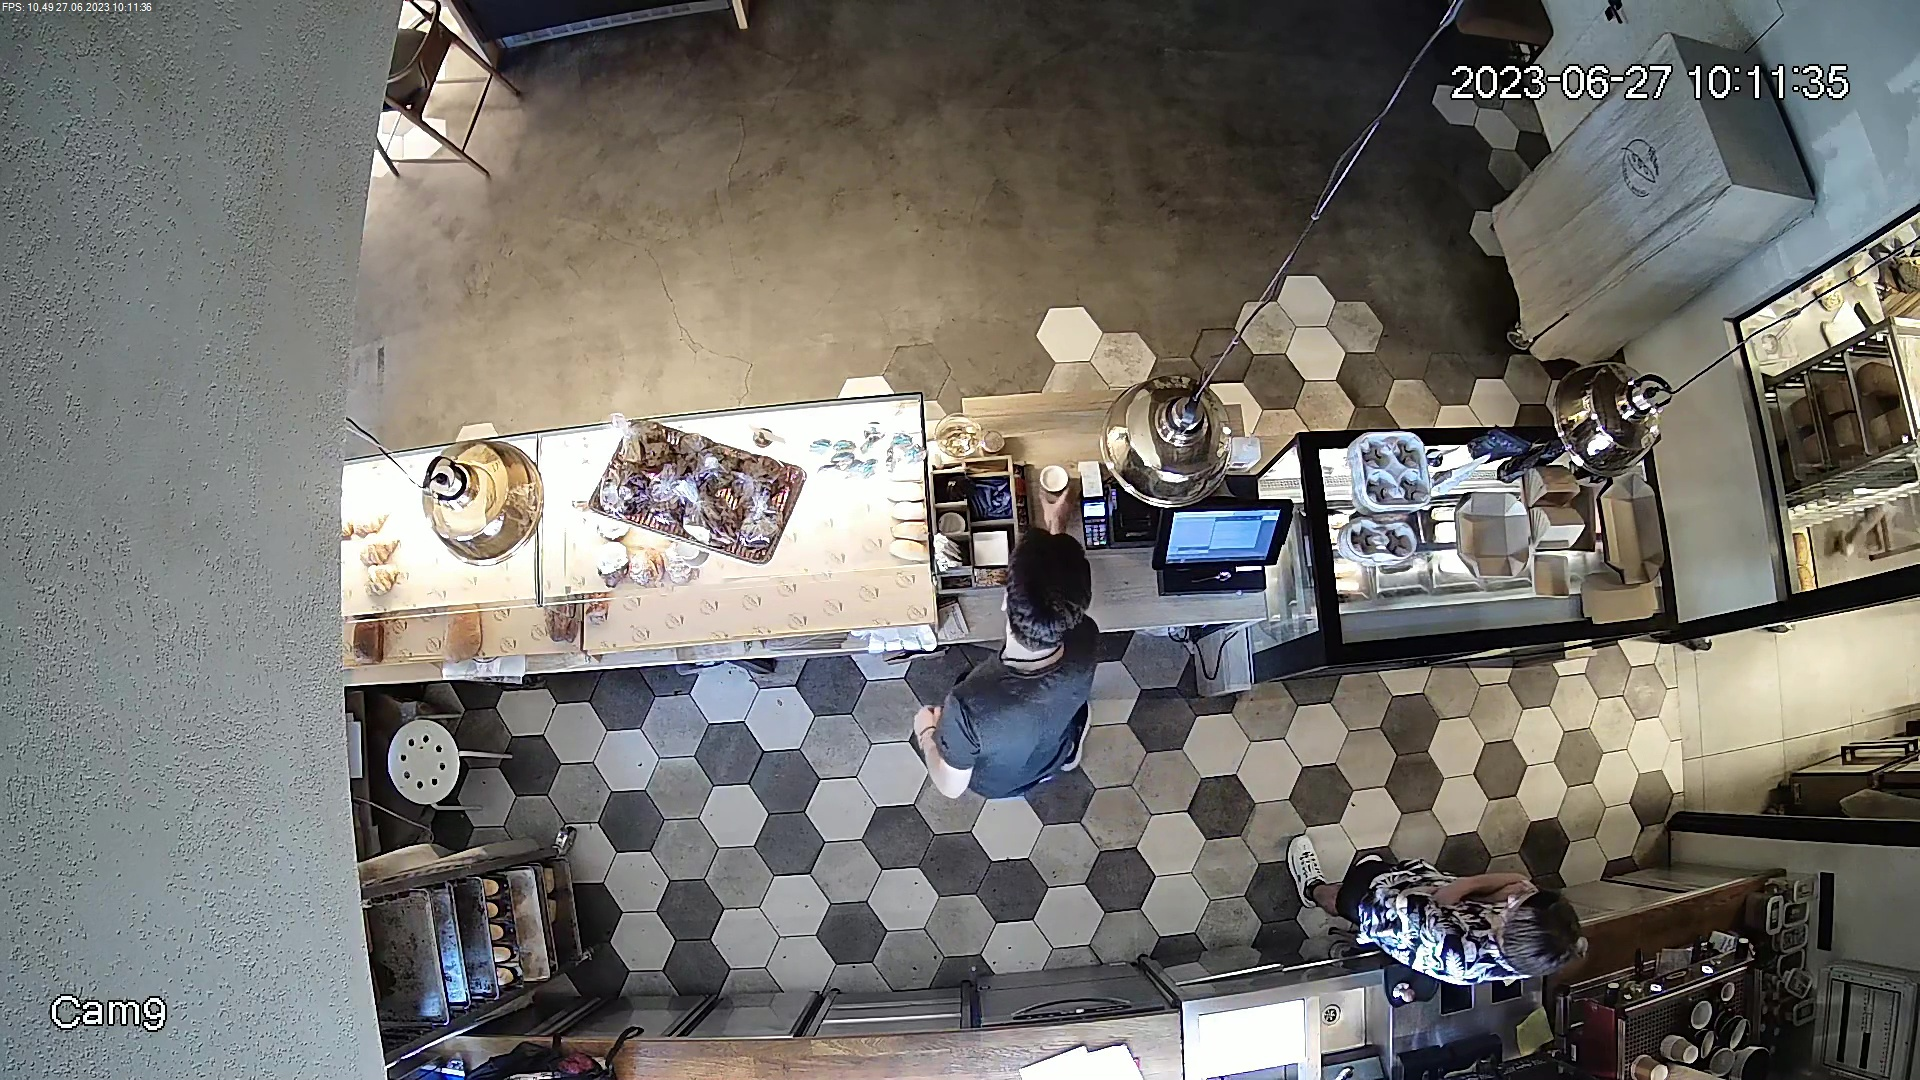coffee: (1030, 458, 1076, 497)
person: (1264, 818, 1604, 1013), (909, 538, 1116, 817)
